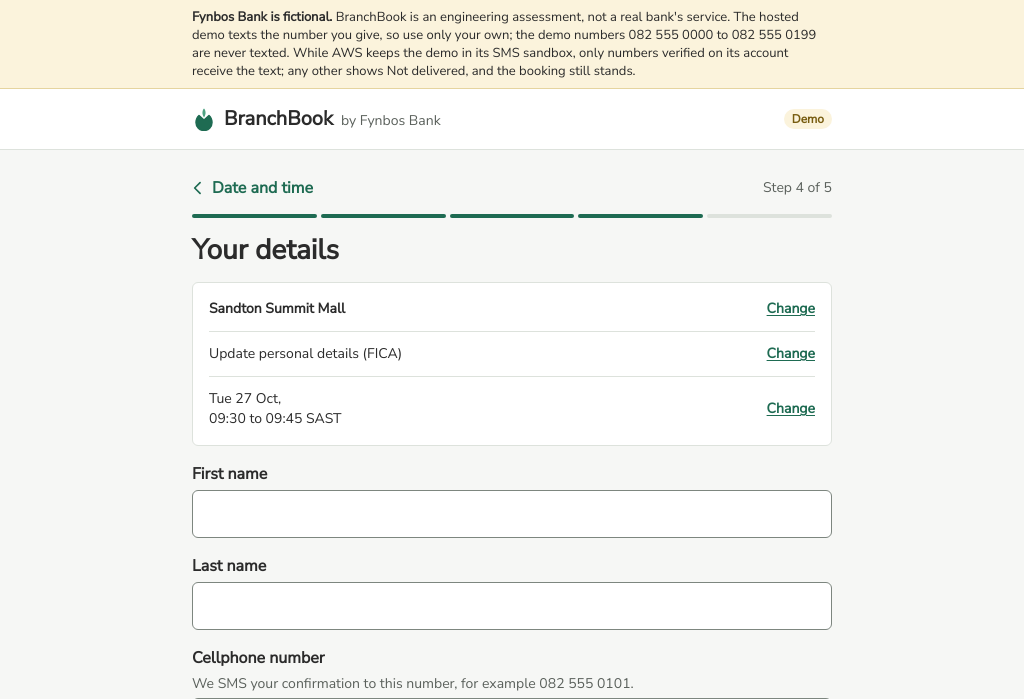
Test case: BookPage › Change links go back to their step, clearing only what depended on the choice
Check: the element named "Your booking so far" shows "Tue 27 Oct, 09:30 to 09:45 SAST", box [192,282,832,446]
Click the link with aria-label "Change date and time". click: {"x": 791, "y": 408}
box: [767,399,815,418]
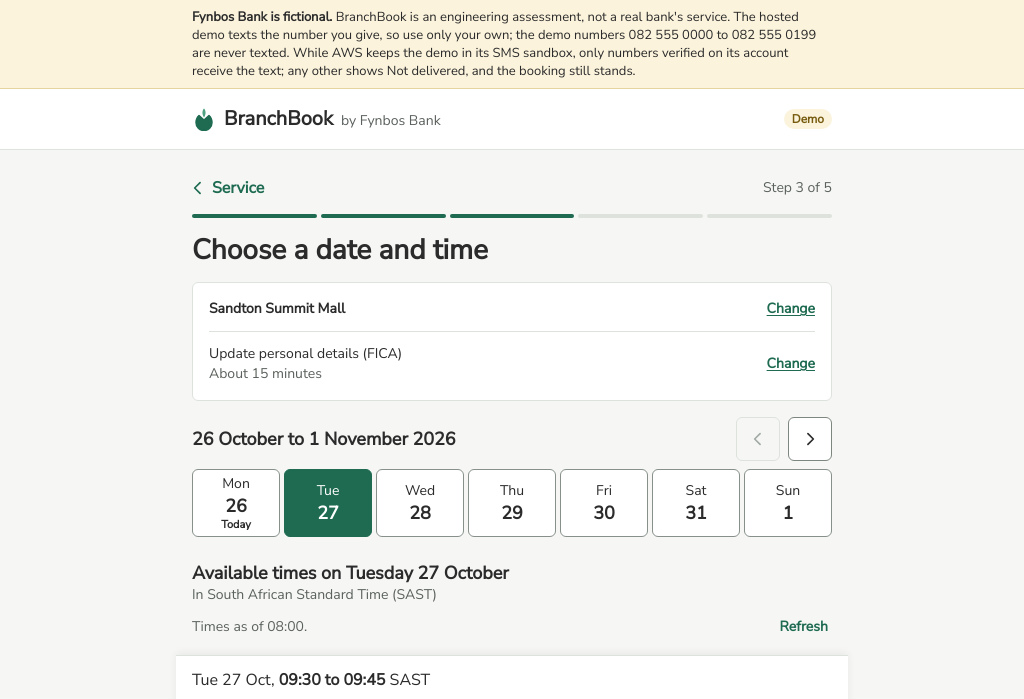
Check: the text "Step 3 of 5" is shown, box [763,178,832,198]
Click the link with aria-label "Change service". click: {"x": 791, "y": 364}
box: [767,354,815,373]
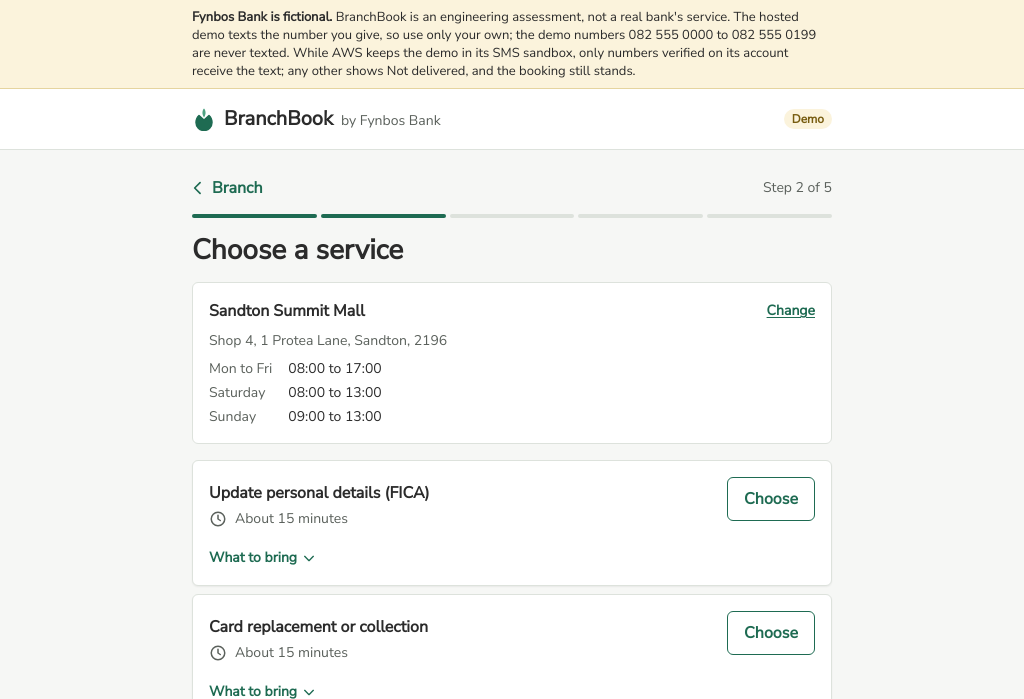
Check: the heading "Choose a service" is shown, box [192,231,403,269]
Click the link with aria-label "Change branch". click: {"x": 791, "y": 310}
box: [767,301,815,320]
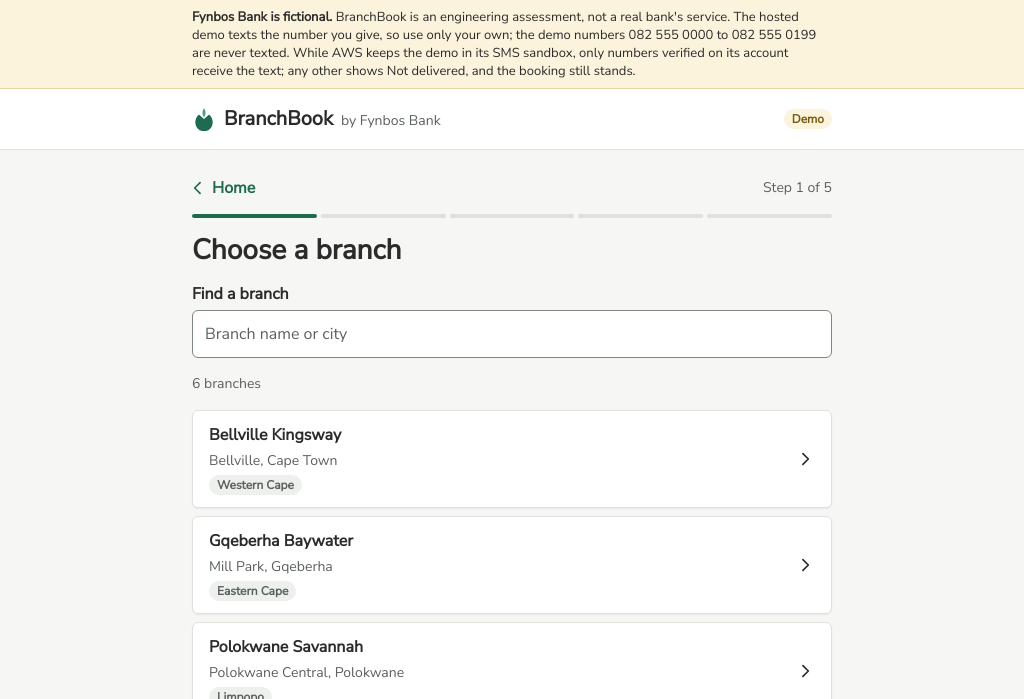
Check: the heading "Choose a branch" is shown, box [192,231,401,269]
